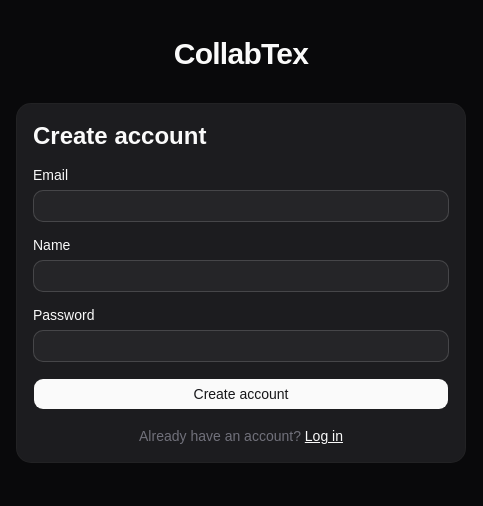
it: RegisterPage › shows server error message on API failure
Type "a@b.com" into the field labelled "Email" at (241, 206), box [33,190,449,222]
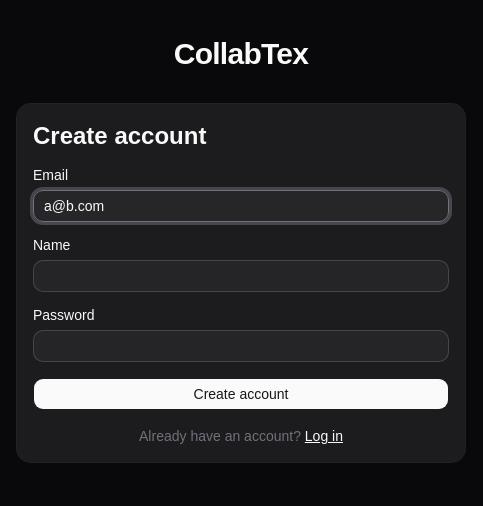
Type "Alice" into the field labelled "Name" at (241, 276), box [33,260,449,292]
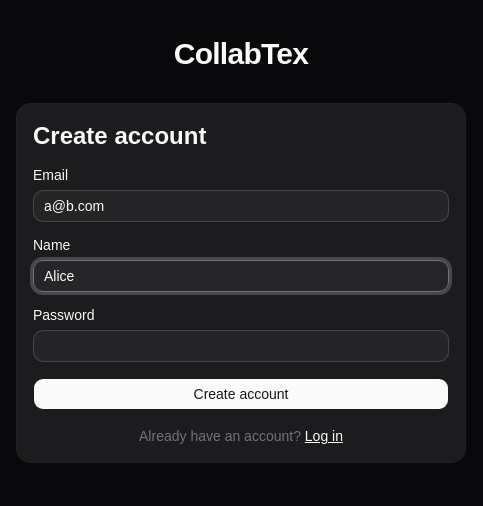
Type "pass123" into the password field labelled "Password" at (241, 346), box [33,330,449,362]
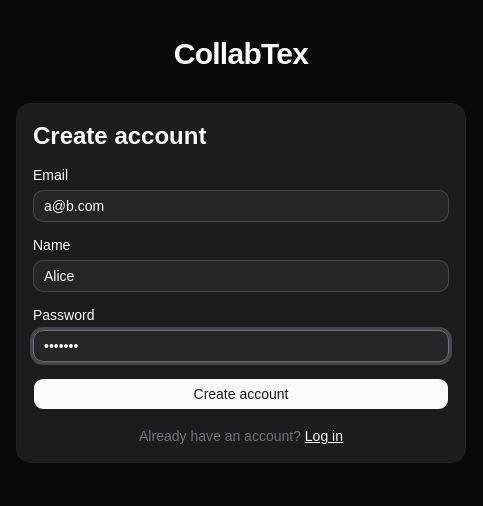
Click the button "Create account" at (241, 394), box [33,378,449,410]
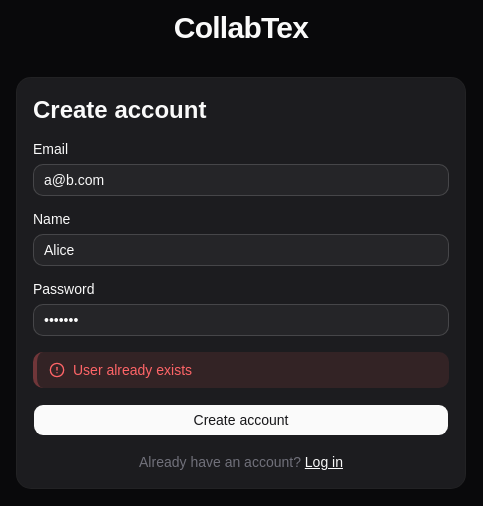
Expected: the message reads "User already exists", [73,362,192,378]
